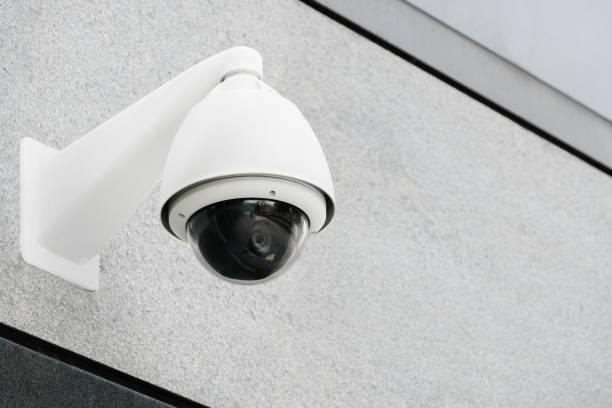360-Cam: (145, 66, 368, 308)
